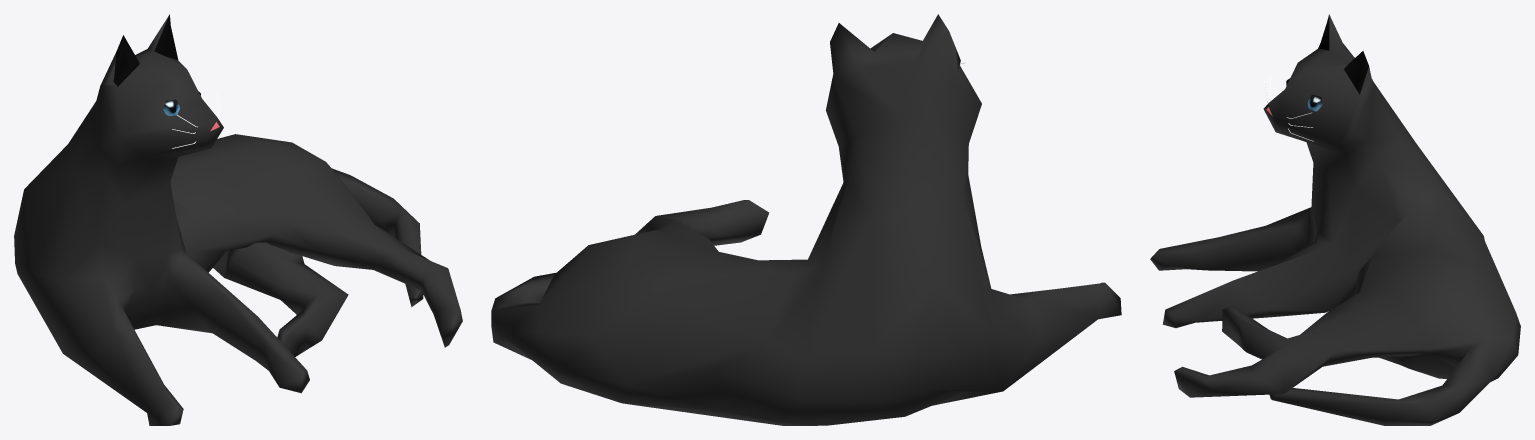
File: Cat02.glb
3 views of the same model, side by side, from view 1: azimuth 30°, elevation 25°; view 2: azimuth 150°, elevation 25°; view 3: azimuth 270°, elevation 25° (orthographic). The views are drawn at different scales.
Parts seen in each view (by area): view 1: Cat02; view 2: Cat02; view 3: Cat02.
Part boxes in pixels (<box>): Cat02: <box>14,14,462,425</box>; Cat02: <box>491,14,1121,425</box>; Cat02: <box>1150,14,1520,425</box>.
Size of what is drawn, in the model's own units: 0.6512 by 0.4981 by 0.6043.
1 material, 1 textured.
